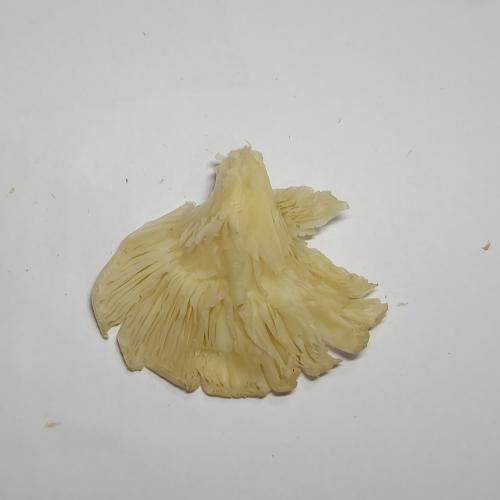Oyster Mushroom: (60, 115, 422, 470)
